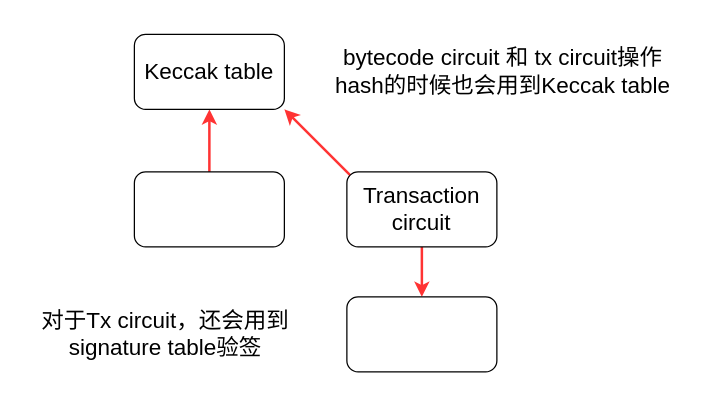
The diagram is 705 pixels wide and 411 high, and some of its shapes have lost their labels. Here are the shapes that lost their labels. From the top down, the box of each, then its label:
(133, 171, 284, 247): Bytecode circuit
(346, 296, 497, 372): Signature table
